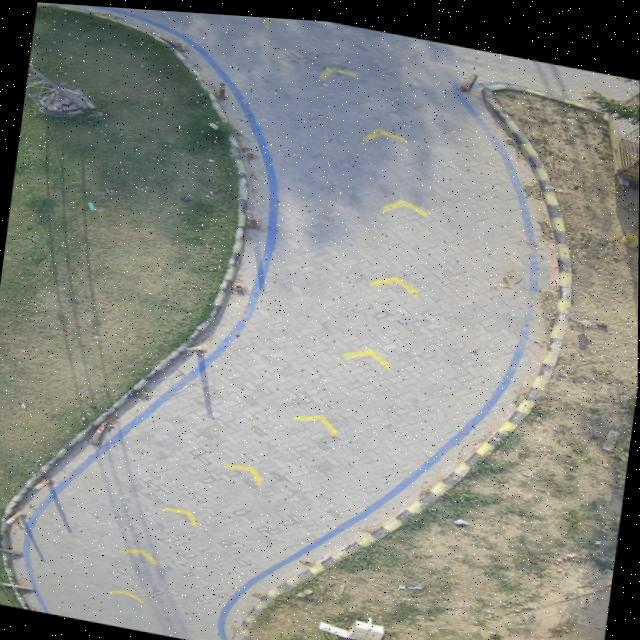No Car: (0, 2, 640, 640)
